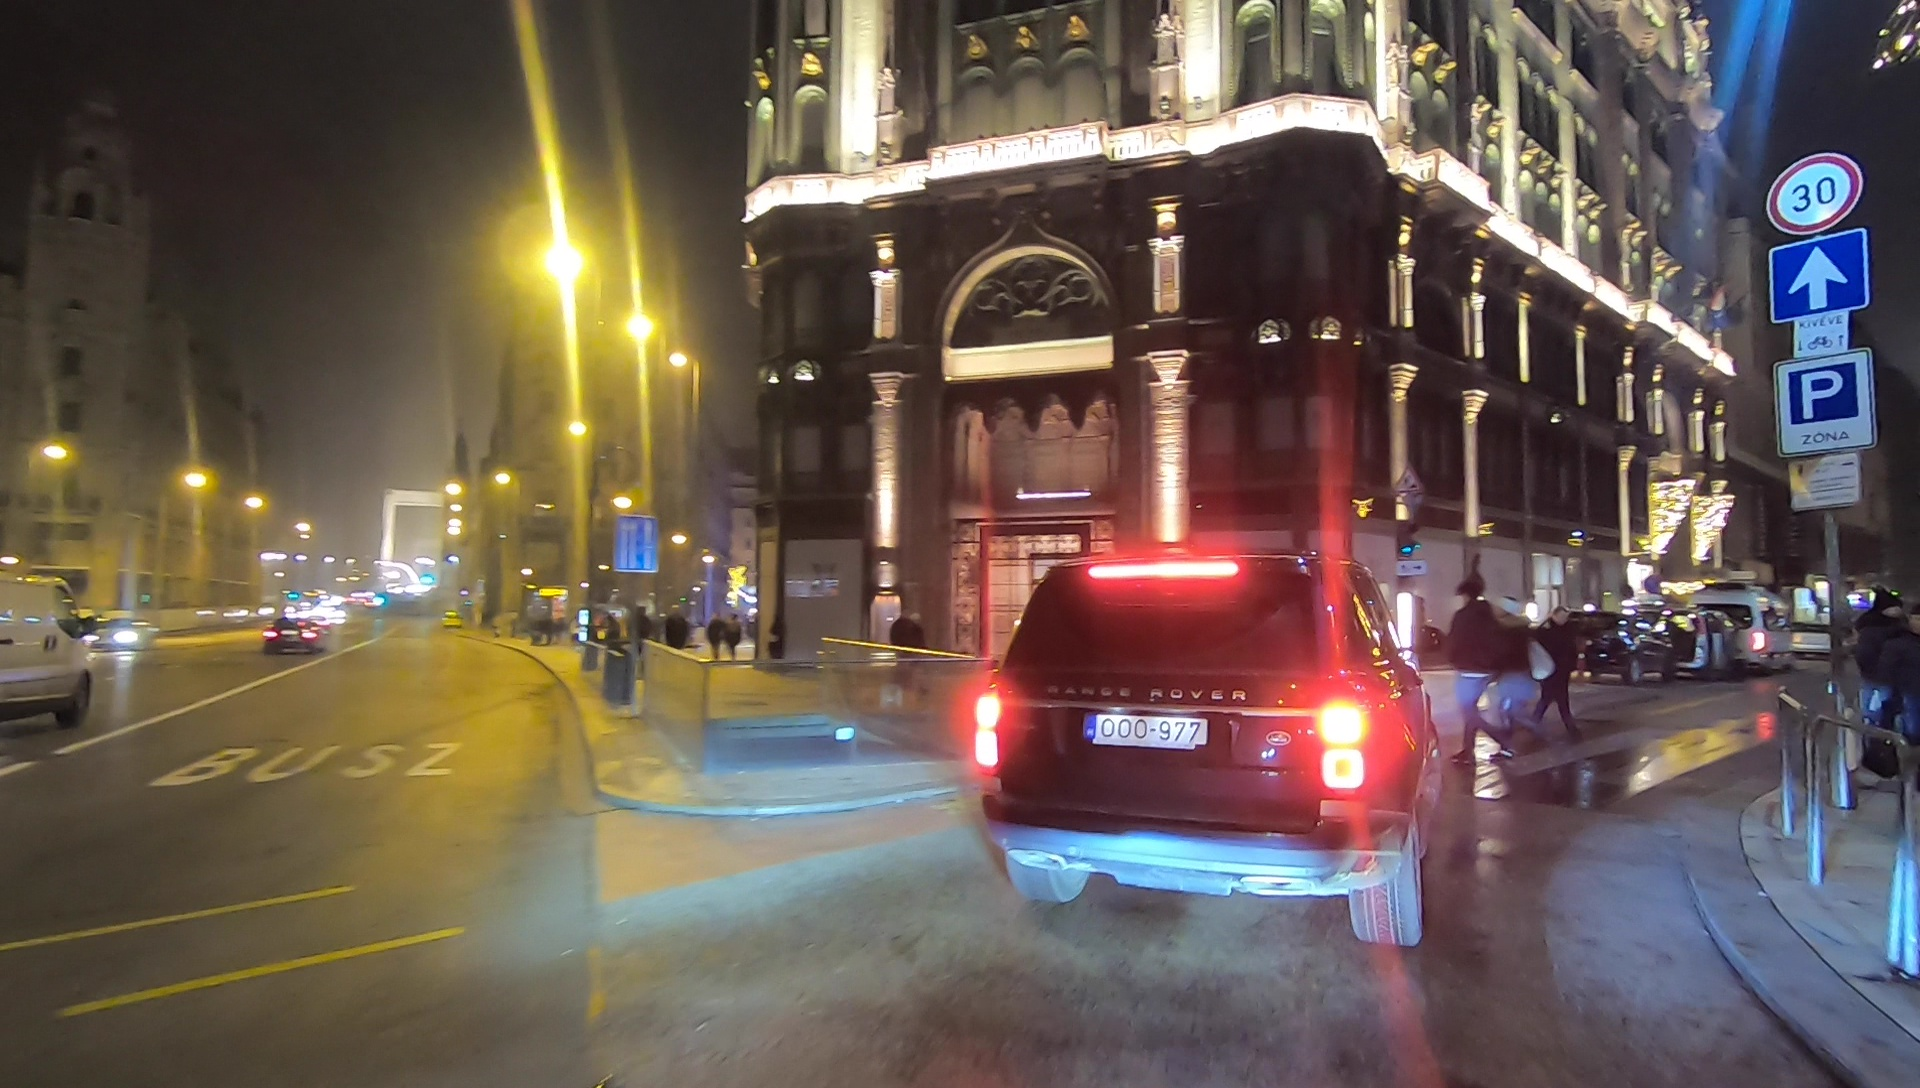person: (1854, 577, 1915, 785), (1449, 579, 1509, 764), (1494, 593, 1538, 751), (1538, 601, 1581, 745), (891, 609, 925, 702), (664, 605, 689, 678), (707, 613, 724, 666), (726, 611, 740, 662)
